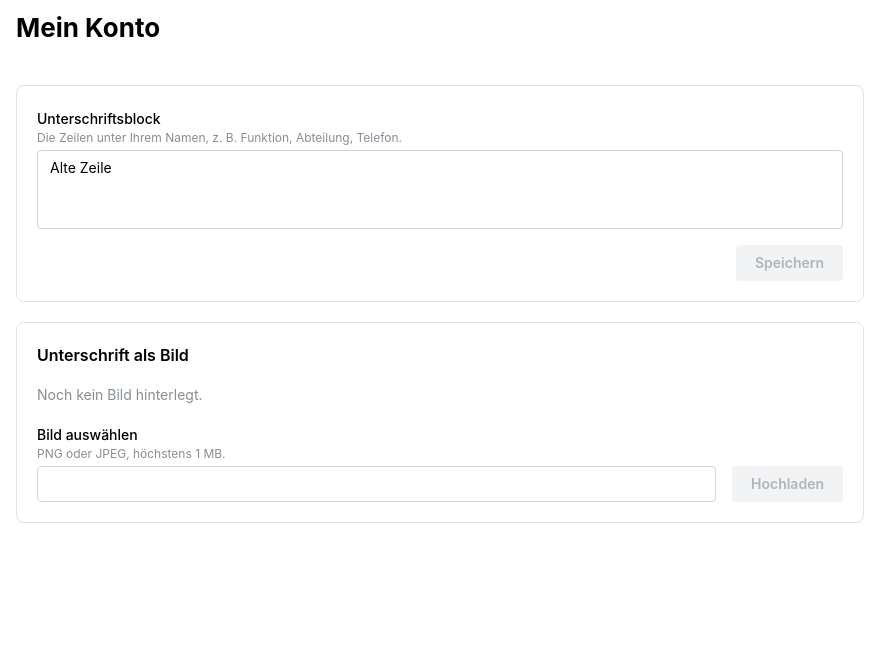
My account (KAN-201) › the signature block saves against the version it was loaded from
The image size is (881, 656).
Type " – neu" into the text box labelled "Unterschriftsblock" at (440, 190), box [37, 150, 843, 229]
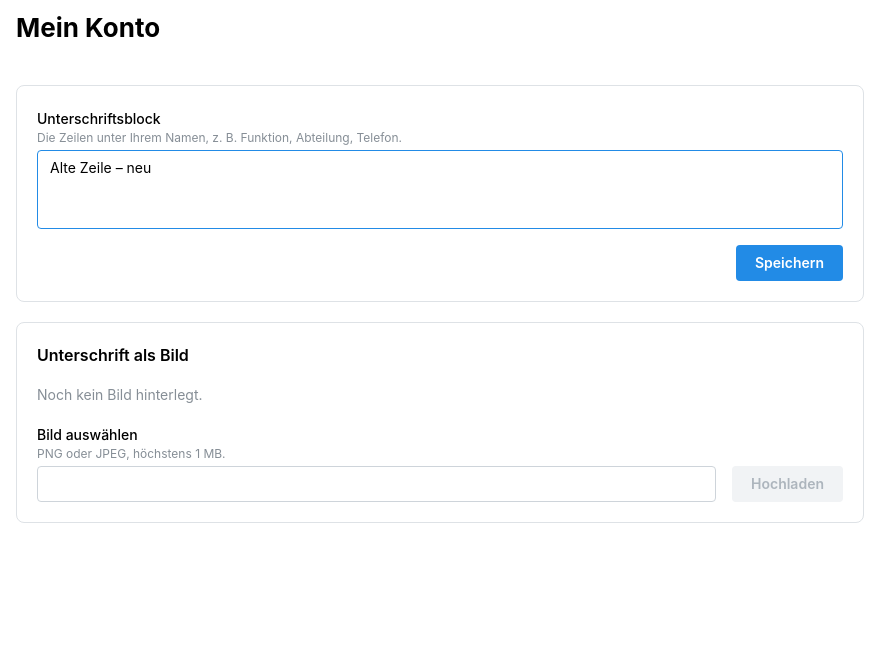
Click the button "Speichern" at (789, 263), box [736, 245, 843, 281]
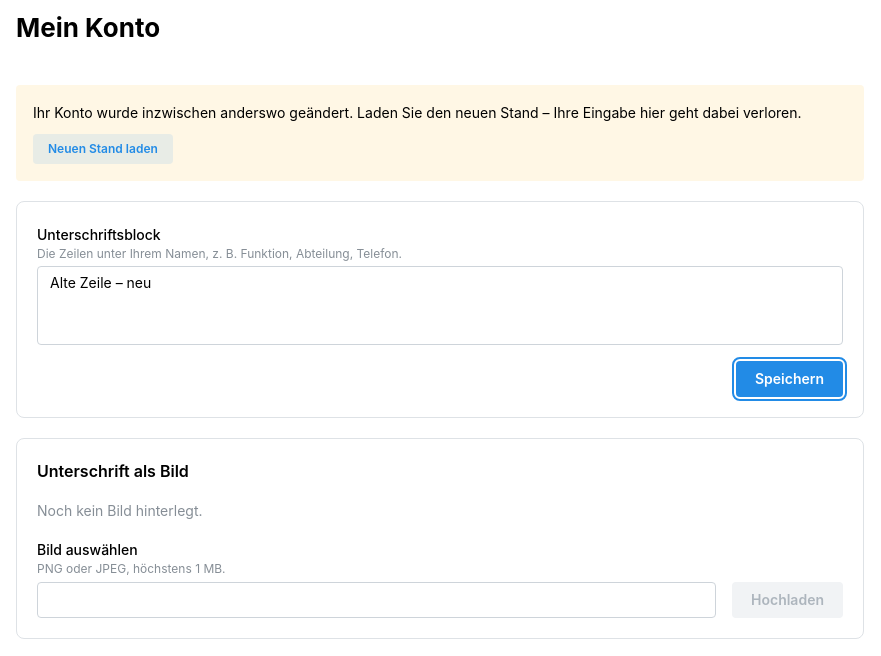
Now the text "Ihr Konto wurde inzwischen anderswo geändert. Laden Sie" is shown, box [33, 104, 802, 121]
Click the button "Neuen Stand laden" at (103, 149), box [33, 134, 173, 164]
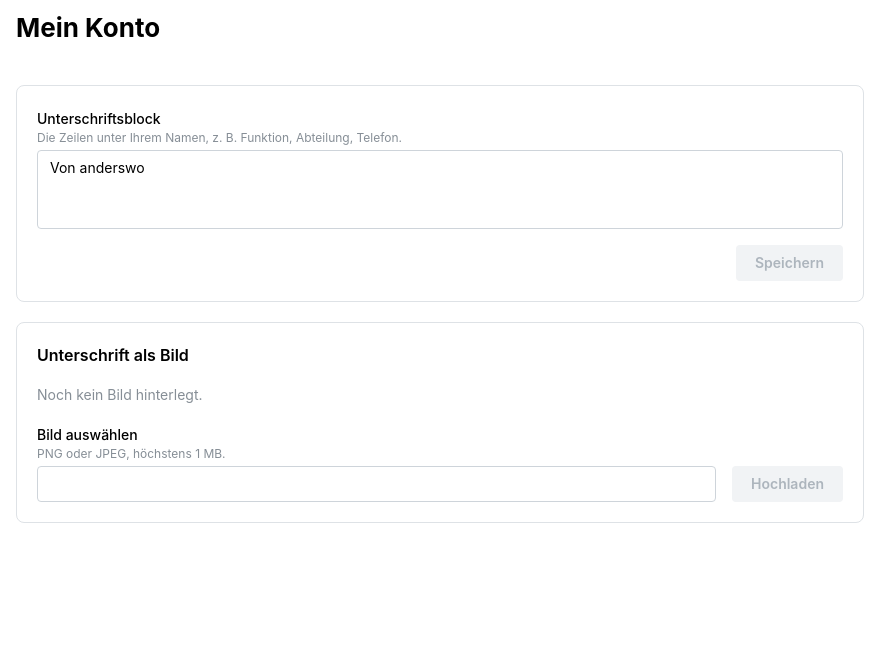
Now the text box labelled "Unterschriftsblock" holds "Von anderswo", box [37, 150, 843, 229]
Now the button "Speichern" is disabled, box [736, 245, 843, 281]
Now the text "Ihr Konto wurde inzwischen anderswo geändert. Laden Sie" is gone
